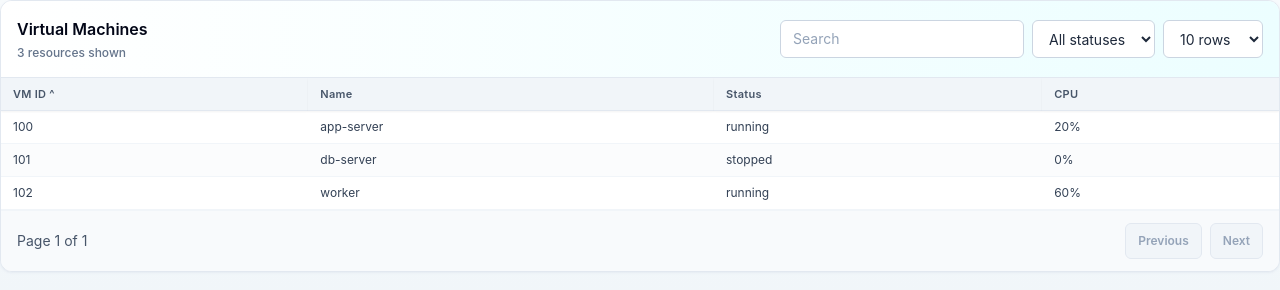
it: sorts rows from table headers
This screenshot has width=1280, height=290.
What coordinates should you click on to do the following:
click the button "Name"
I would click on:
 (336, 94)
Its box is [320,86,352,102].
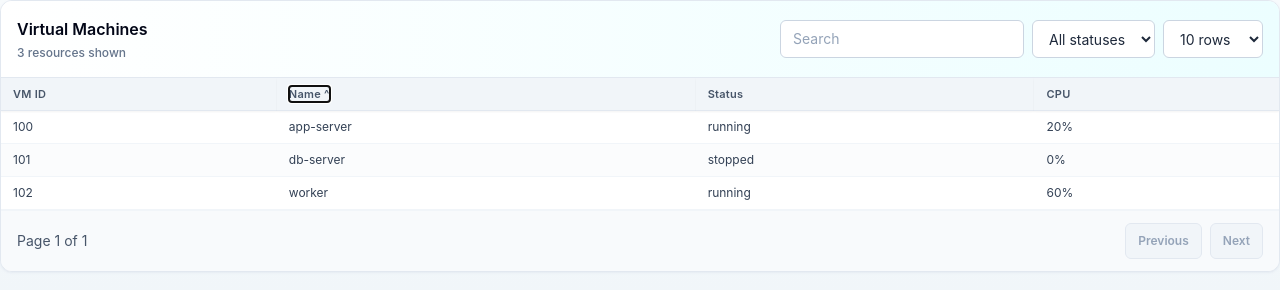
Expected: the text "app-server" is shown, [277,111,696,144]
What coordinates should you click on to do the following:
click the button "Name ^"
I would click on:
 (309, 94)
Its box is [289,86,330,102].
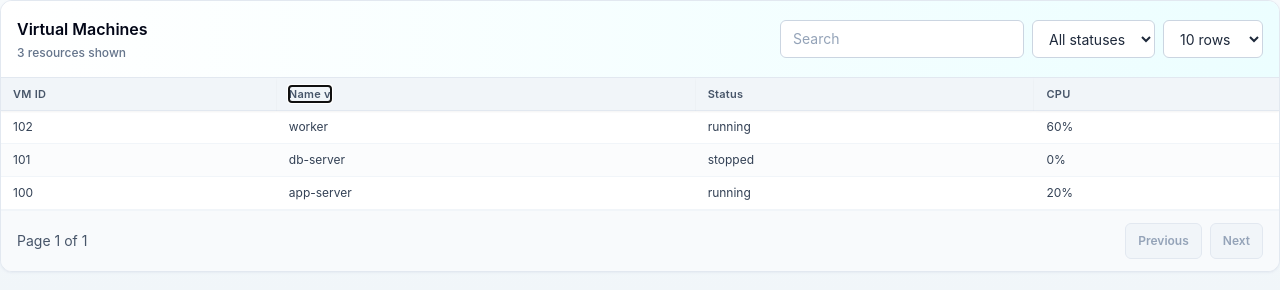
Result: the text "worker" is shown at [277,111,696,144]
